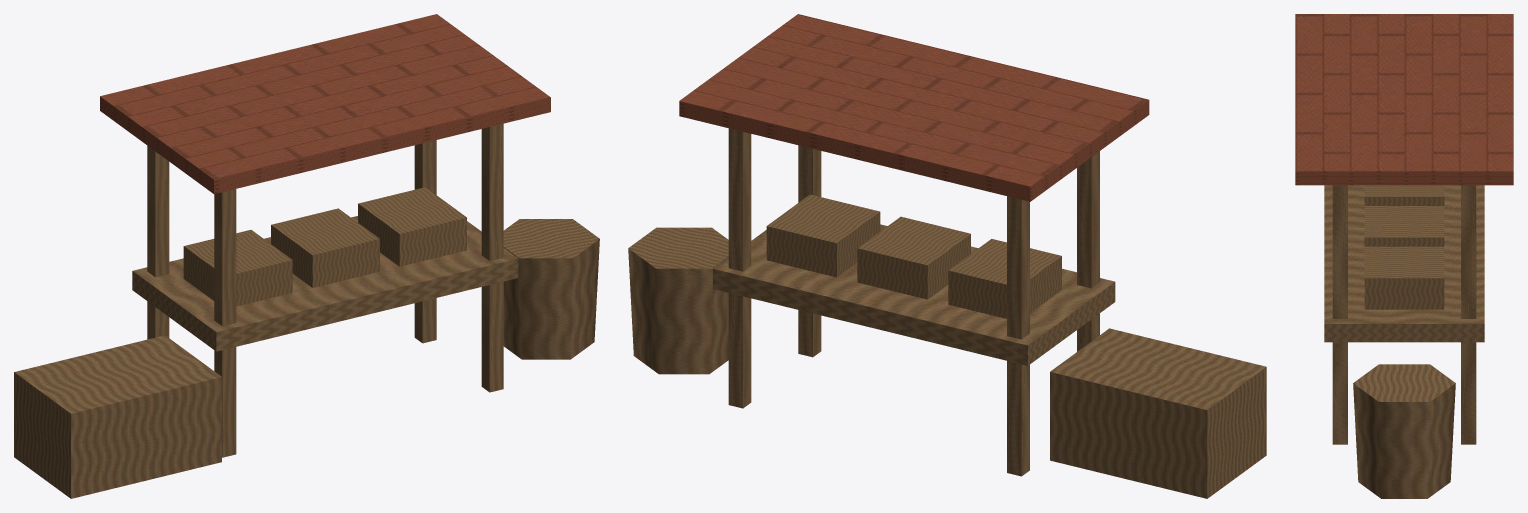
3 renders of one model, left to right at view 1: azimuth 30°, elevation 25°; view 2: azimuth 150°, elevation 25°; view 3: azimuth 270°, elevation 25°, orthographic. The views are drawn at different scales.
Parts seen in each view (by area): view 1: market-wood, market-roof; view 2: market-wood, market-roof; view 3: market-wood, market-roof.
Boxes of the visible parts, box(x1,y1,x2,y2) form: market-wood: box(14, 123, 599, 498); market-roof: box(100, 14, 550, 194); market-wood: box(628, 128, 1266, 498); market-roof: box(679, 14, 1149, 201); market-wood: box(1324, 185, 1484, 498); market-roof: box(1295, 14, 1513, 185).
Bounding box in the file's own units: 4.8 × 2.46 × 1.7.
Materials: 2 (2 with a texture image).
